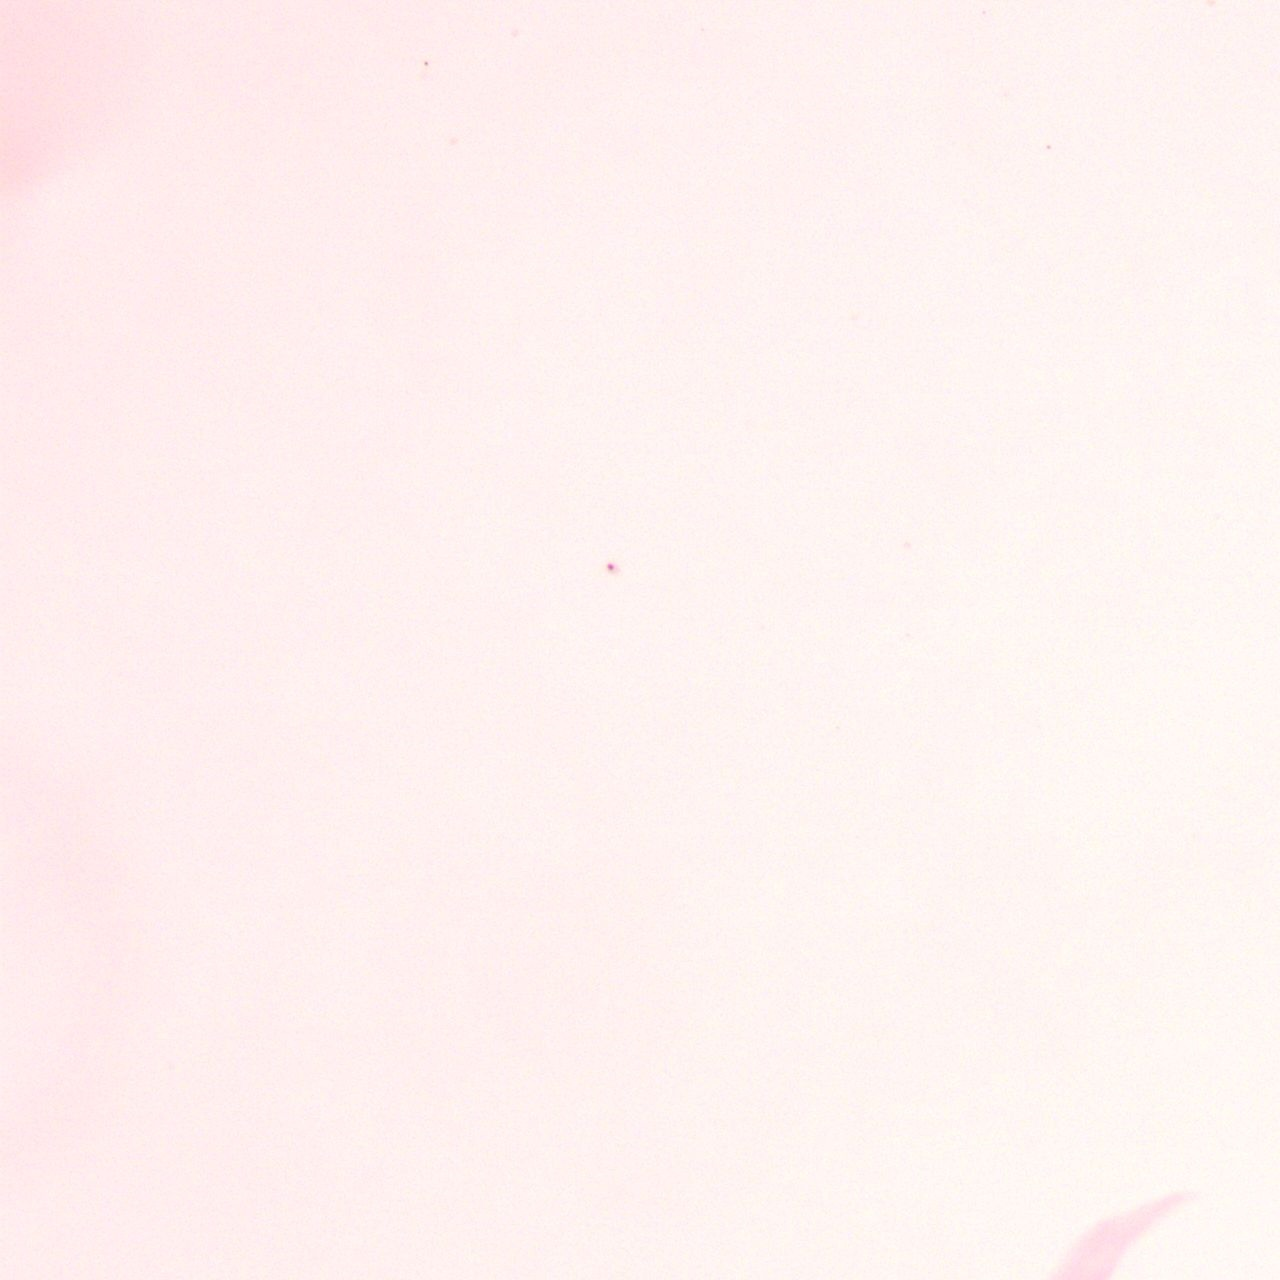dust: (607, 563, 615, 570), (424, 61, 429, 64)
